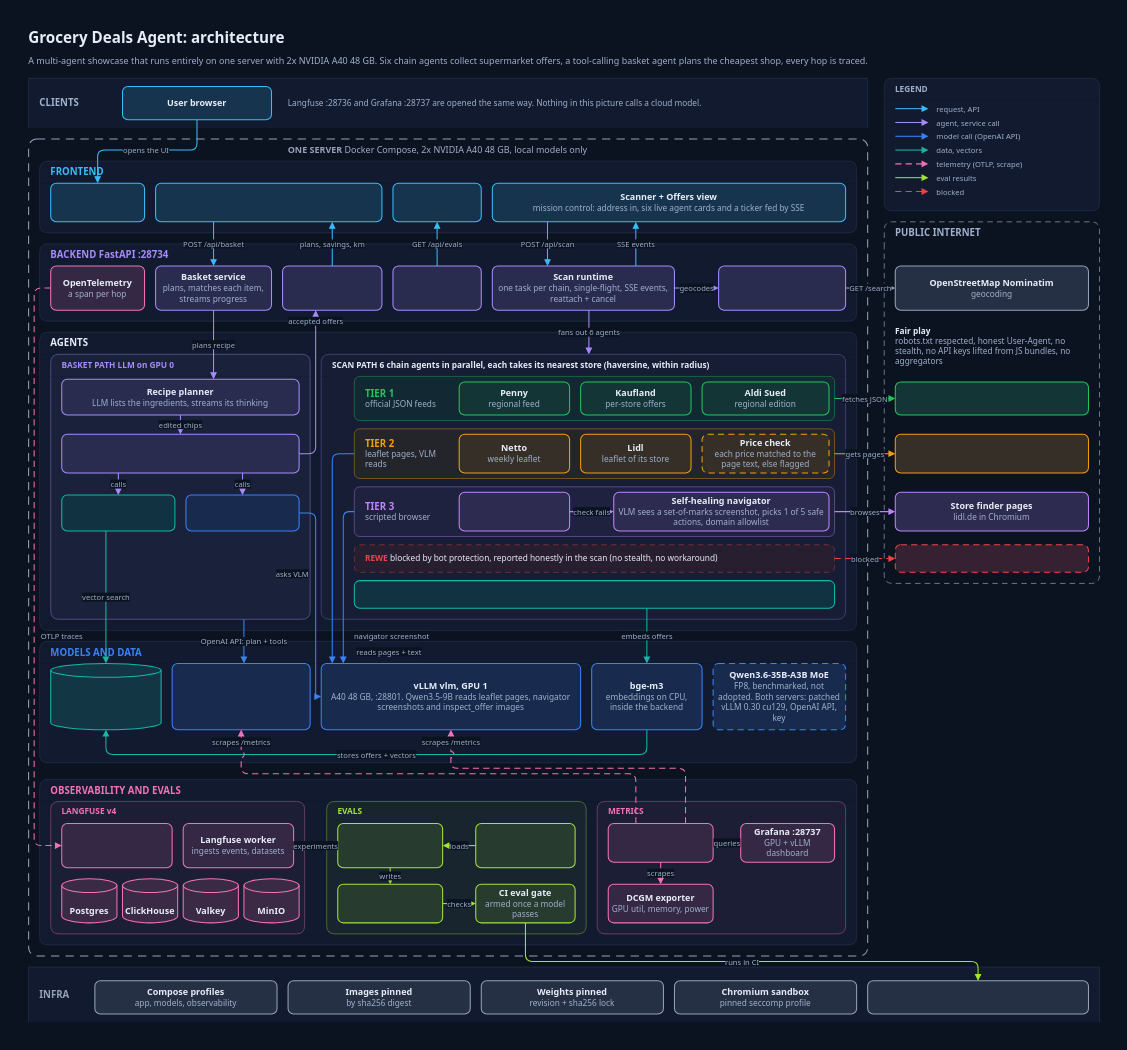
Some shapes in this 1127 by 1050 pixel diagram are drawn without their labels. The centre of each missing label's shape, as x and y in pixels:
"eval/results scores per model" belongs at point 390,903.
"Evals API runs + eval/results" belongs at point 436,287.
"Experiment runner python -m app.eval experiment" belongs at point 390,845.
"Geocoding address to lat, lon" belongs at point 782,287.
"GitHub Actions CI lint, types, tests, eval gate, compose build" belongs at point 978,997.
"Gold sets 50 pages, 198 pairs, 20 baskets" belongs at point 525,845.
"inspect_offer asks the VLM" belongs at point 242,512.
"Langfuse web :28736, traces, sessions, tokens, latency" belongs at point 116,845.
"Leaflet hosting page images + text layer" belongs at point 991,453.
"Lidl store finder Playwright Chromium, post-condition checks" belongs at point 514,511.
"nginx :28735 React + Vite SPA, proxies /api" belongs at point 97,202.
"Normalize offers unit price, pack sizes, loyalty prices, multi-buys" belongs at point 594,594.
"Optimizer deterministic: single store or split" belongs at point 332,287.
"Per-item basket agent tool-calling loop, accepts or rejects candidates" belongs at point 180,453.
"Plan view recipe in, editable ingredient chips (human in the loop), plans out" belongs at point 268,202.
"Postgres 16 leaflets, offers + vectors, scan_runs; kept until each leaflet ends" belongs at point 105,696.
"Prometheus :28738 scrapes every 5 s" belongs at point 660,842.
"Retailer JSON feeds Penny, Kaufland, Aldi Sued" belongs at point 991,398.
"rewe.de bot protection" belongs at point 991,558.
"Runs + Evals past scans, scores per model" belongs at point 436,202.
"search_offers vectors, per chain" belongs at point 118,512.
"vLLM llm, GPU 0 A40 48 GB, :28800. Qwen3.5-9B, tool calling, reasoning" belongs at point 240,696.
